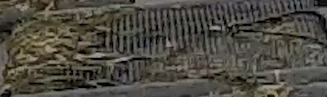bag: (11, 1, 326, 97)
